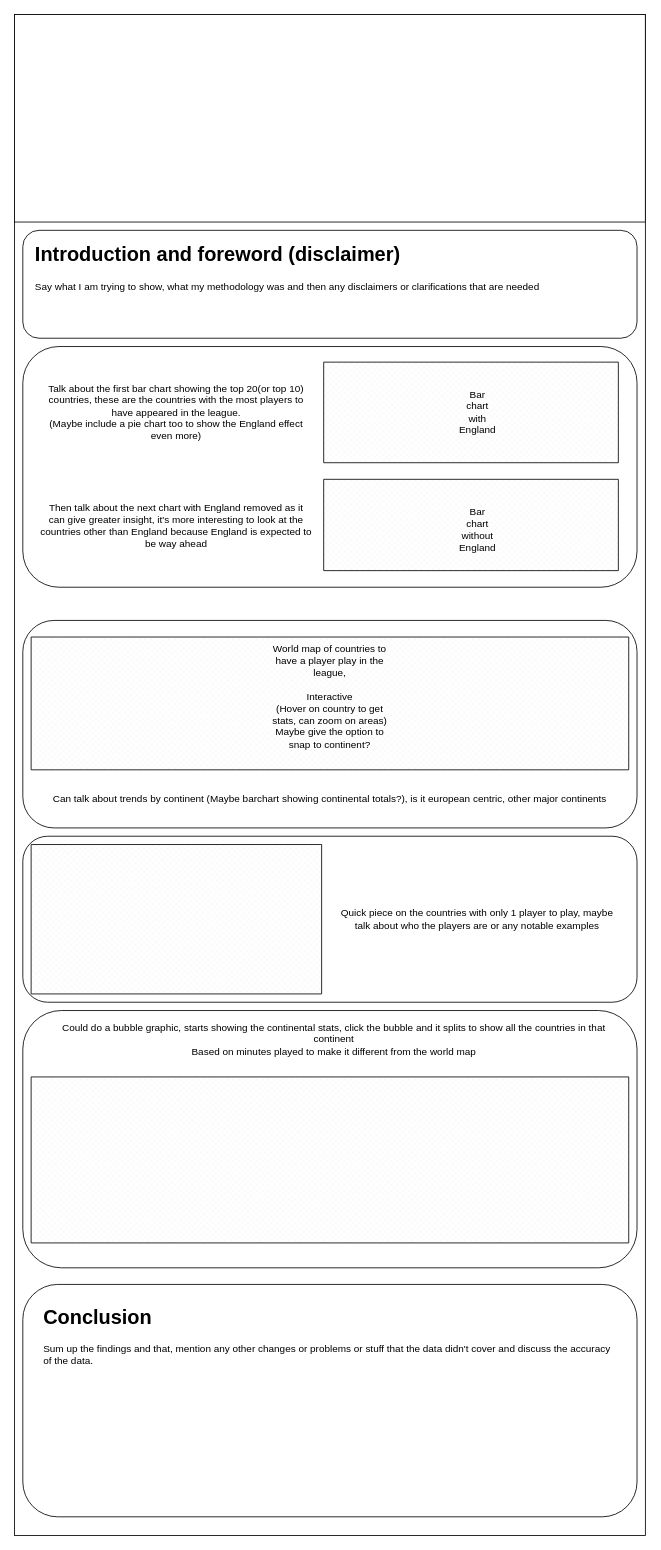
Some shapes in this 661 by 1550 pixel diagram are drawn without their labels. Here are the shapes that lost their labels. From the top down, the centre of each, then its label:
At point (329, 118): "Title and brief introduction".
At point (176, 919): "Graphic for those countries with 1 player".
At point (329, 1159): "Bubble diagram showing minutes played Buttons to show each continent?".
